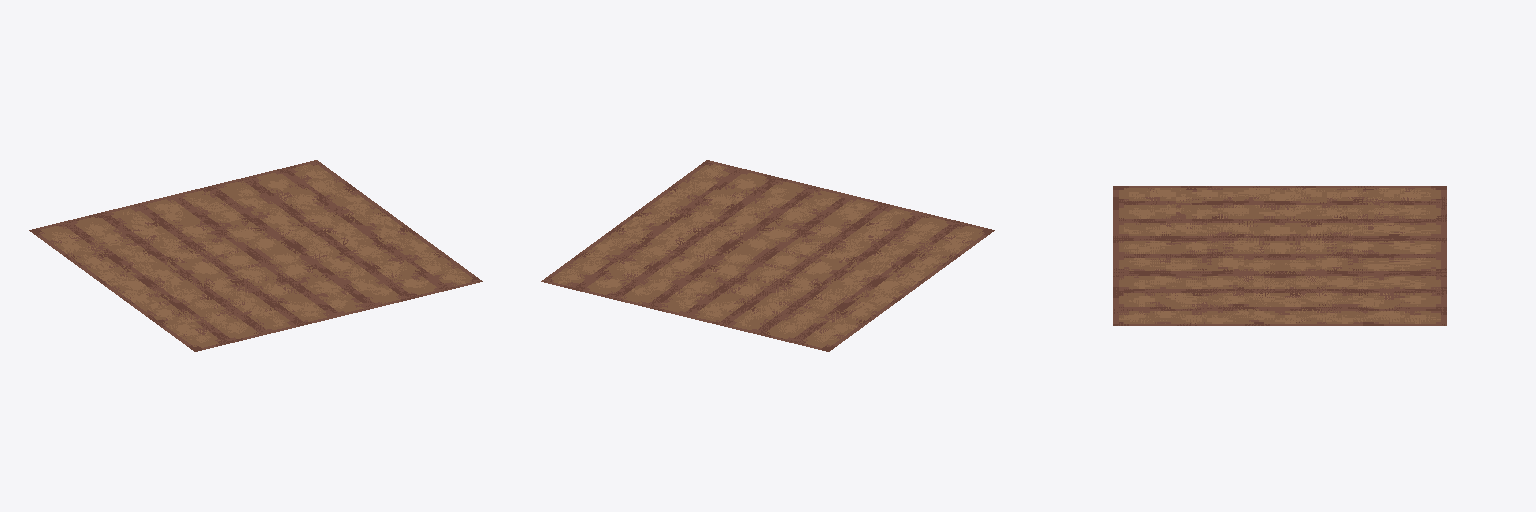
The picture shows the model from 3 angles: view 1: azimuth 30°, elevation 25°; view 2: azimuth 150°, elevation 25°; view 3: azimuth 270°, elevation 25°; orthographic projection.
Visible parts, largest first — view 1: cube; view 2: cube; view 3: cube.
Part boxes in pixels (bbox=[...]): cube: bbox=[29, 160, 482, 351]; cube: bbox=[541, 160, 994, 351]; cube: bbox=[1113, 186, 1446, 325].
Bounding box in the file's own units: 4 × 0 × 4.
Materials: 1 (1 with a texture image).